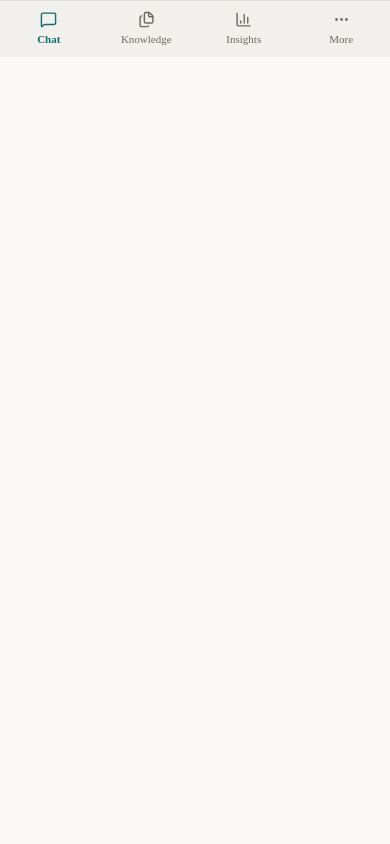
Test: MobileNav › gives every destination a route for role=admin superAdmin=false
This screenshot has width=390, height=844.
Step 1. Click the button "More" → {"x": 341, "y": 29}, box x1=292 y1=1 x2=389 y2=57
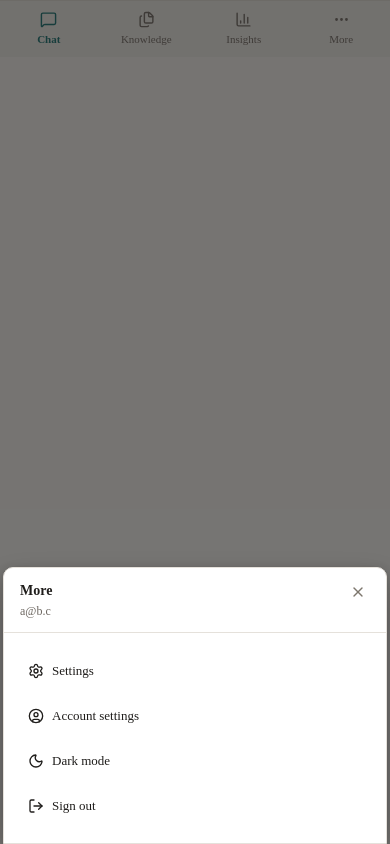
Expected: the link "Chat" is shown, x1=37 y1=11 x2=60 y2=45
Expected: the link "Settings" is shown, x1=28 y1=662 x2=94 y2=678
